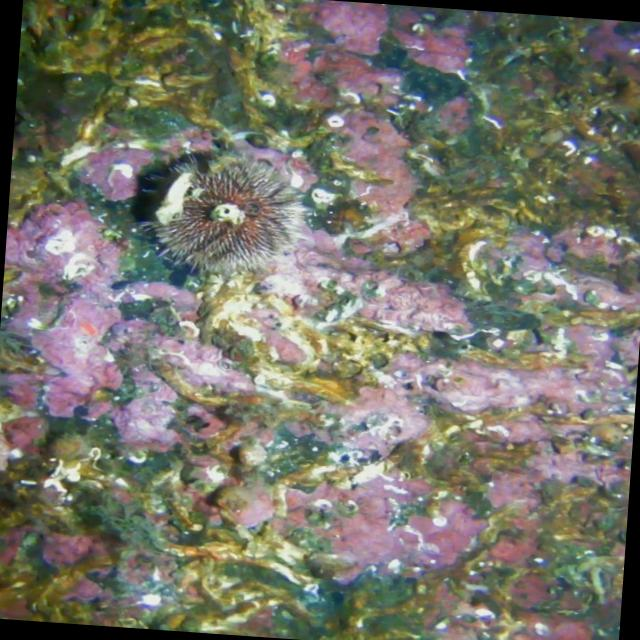Deniz Kestanesi: (130, 148, 310, 284)
